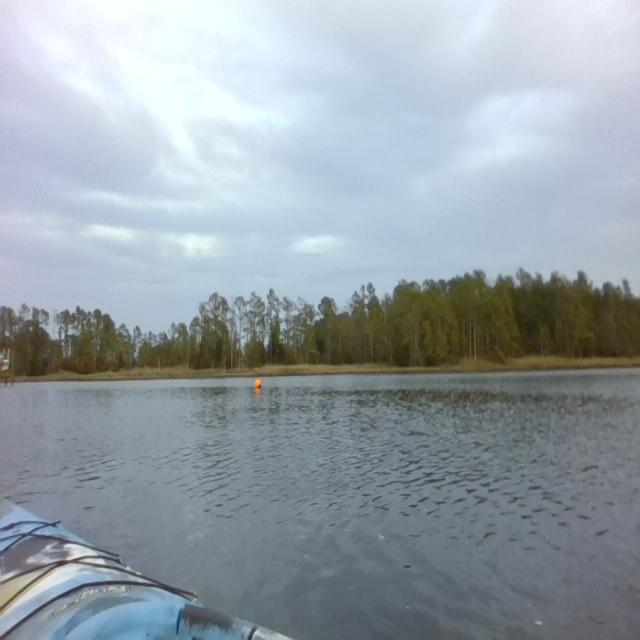Buoy: (253, 376, 263, 392)
